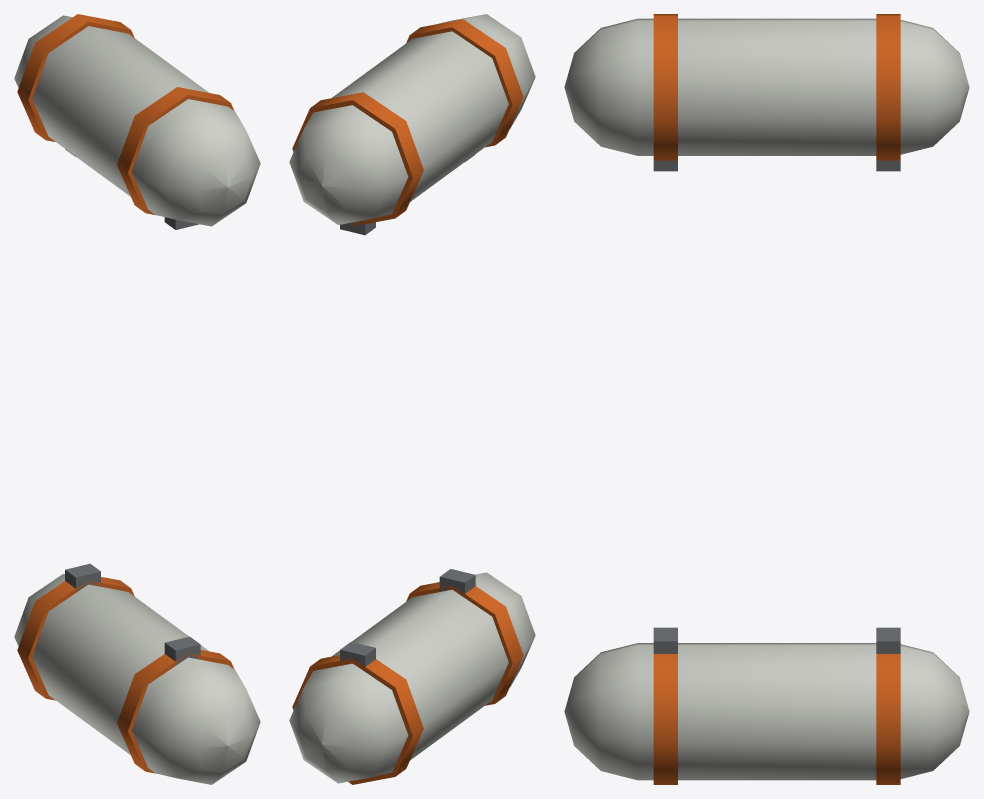
3 renders of one model, left to right at view 1: azimuth 30°, elevation 25°; view 2: azimuth 150°, elevation 25°; view 3: azimuth 270°, elevation 25°, orthographic. The views are drawn at different scales.
Parts seen in each view (by area): view 1: u65m_hx; view 2: u65m_hx; view 3: u65m_hx.
Boxes of the visible parts, x1,y1,x2,y2 form: u65m_hx: (14, 14, 260, 784); u65m_hx: (289, 14, 535, 784); u65m_hx: (564, 14, 969, 784).
Size of the model in its own units: 0.77 by 4.17 by 2.
